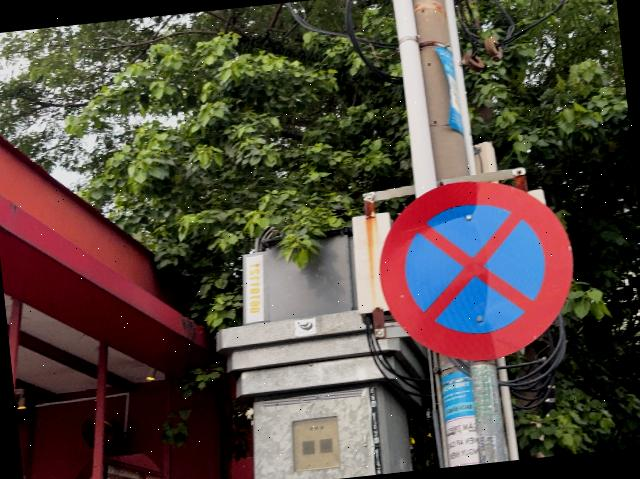cam-dung-va-do-xe: (370, 170, 582, 370)
